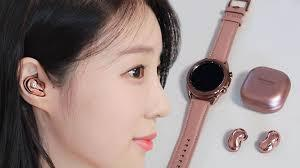earphone: (25, 74, 47, 97)
